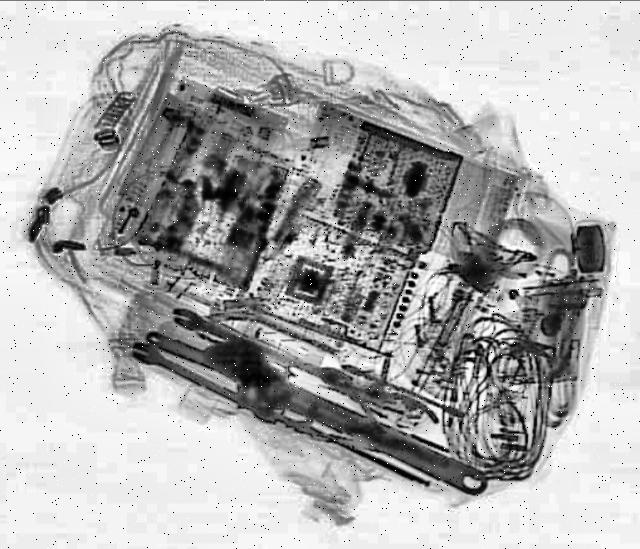Pliers: (311, 354, 449, 444)
Wrench: (237, 361, 498, 497), (168, 301, 360, 391), (129, 336, 285, 422)
